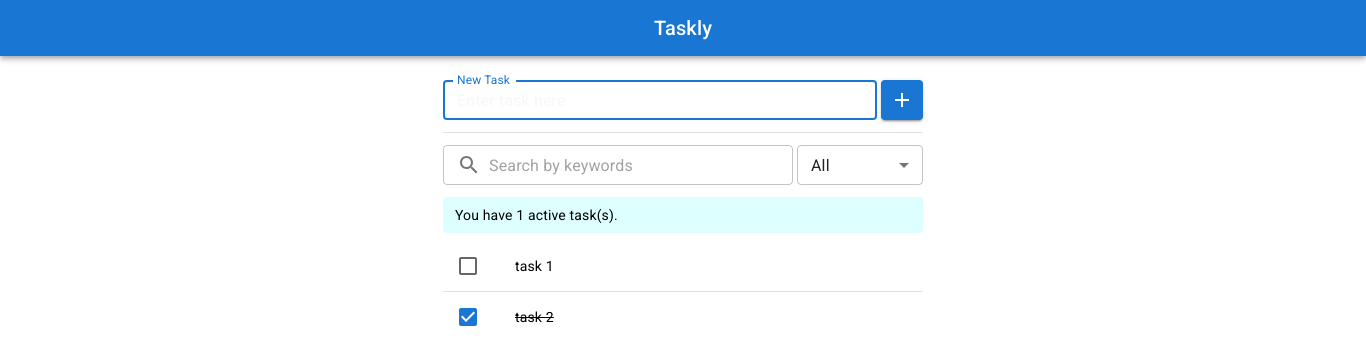
it: <App /> › searches tasks by keyword
expect the text "task 1" is shown: met, box [515, 258, 554, 274]
expect the text "task 2" is shown: met, box [515, 309, 554, 325]
Type "task 2" into the field with test id "task-search-input" at (641, 165), box [489, 145, 793, 185]
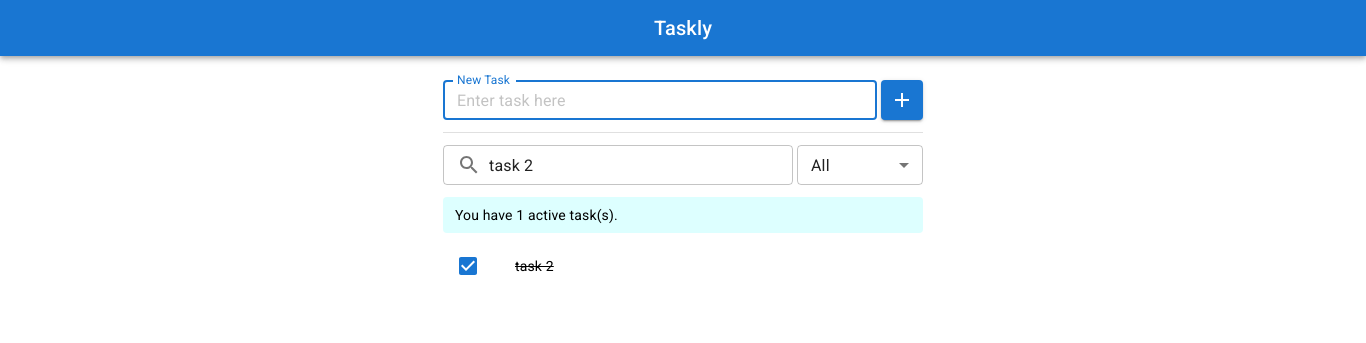
expect the text "task 2" is shown: met, box [515, 258, 554, 274]
expect the text "task 1" is gone: met
Type "Fun task" into the text box with test id "task-input" at (660, 100), box [457, 88, 863, 112]
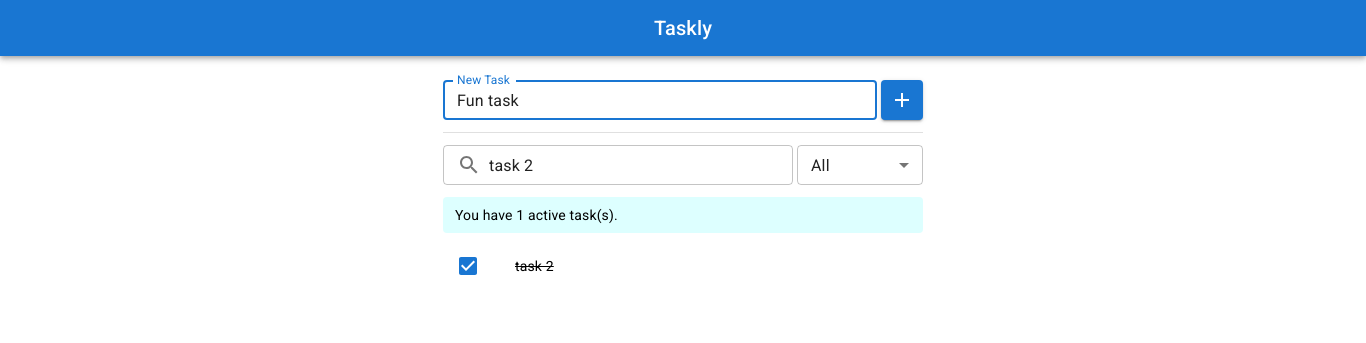
Click the button with test id "task-submit-btn" at (902, 100), box [881, 80, 923, 120]
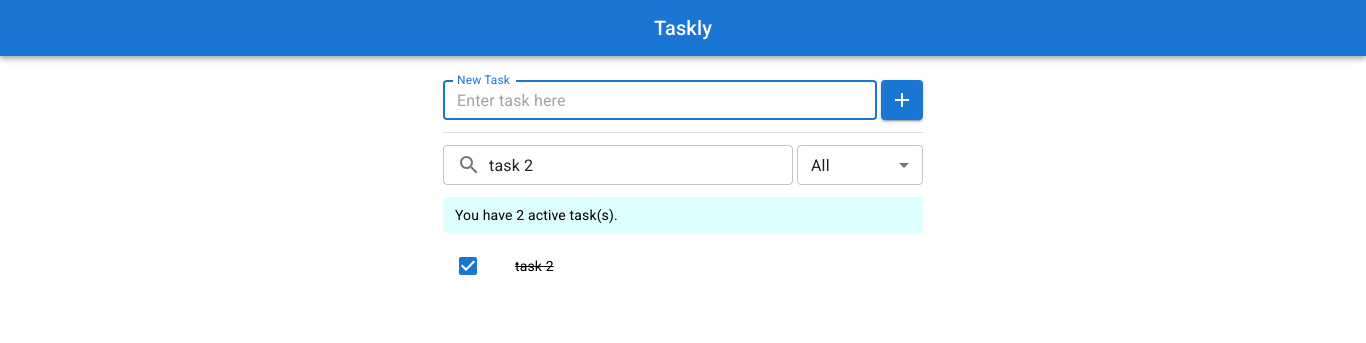
Replace the text in the field with test id "task-search-input" with "fun task" at (641, 165), box [489, 145, 793, 185]
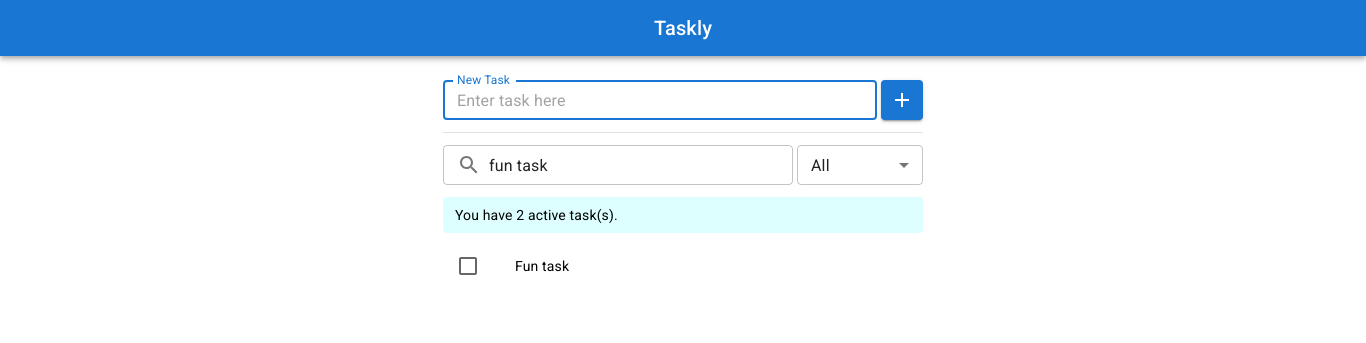
expect the text "task 1" is not shown: met
expect the text "task 2" is gone: met
expect the text "Fun task" is shown: met, box [515, 258, 569, 274]
